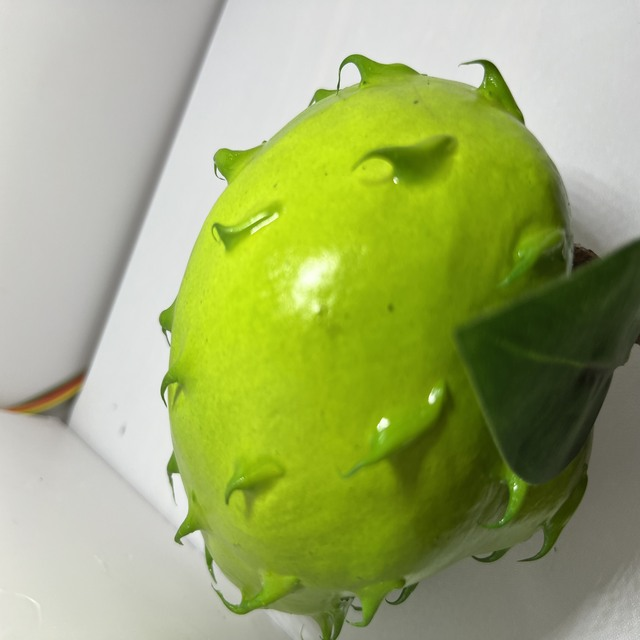Man cau: (143, 41, 599, 637)
